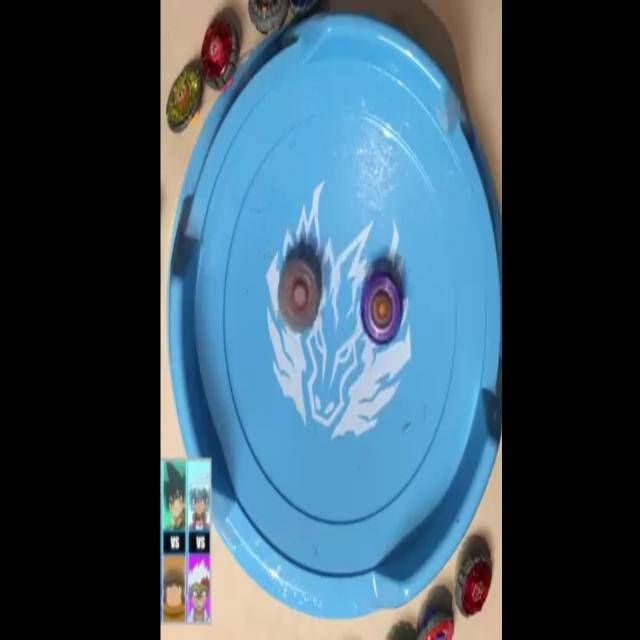Beyblade: (278, 257, 320, 334), (360, 274, 402, 346), (201, 19, 239, 91), (166, 68, 203, 132), (456, 554, 492, 618)
